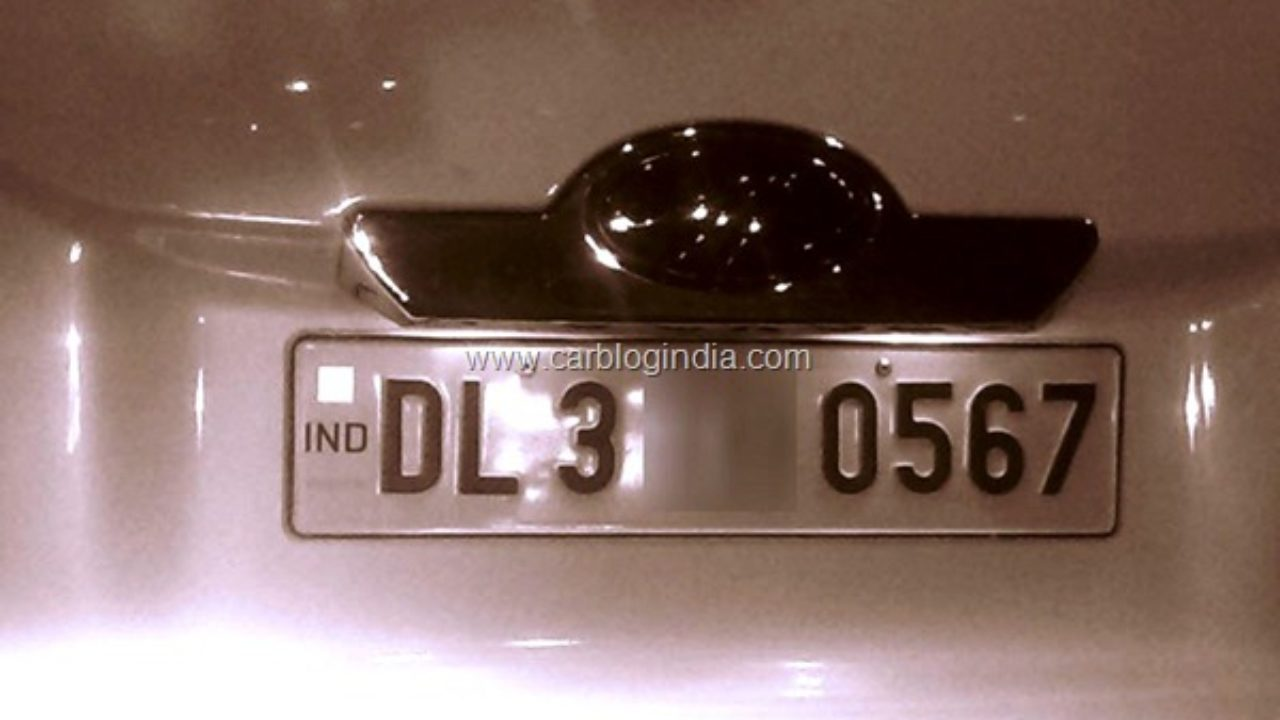number_plate: (279, 327, 1134, 544)
